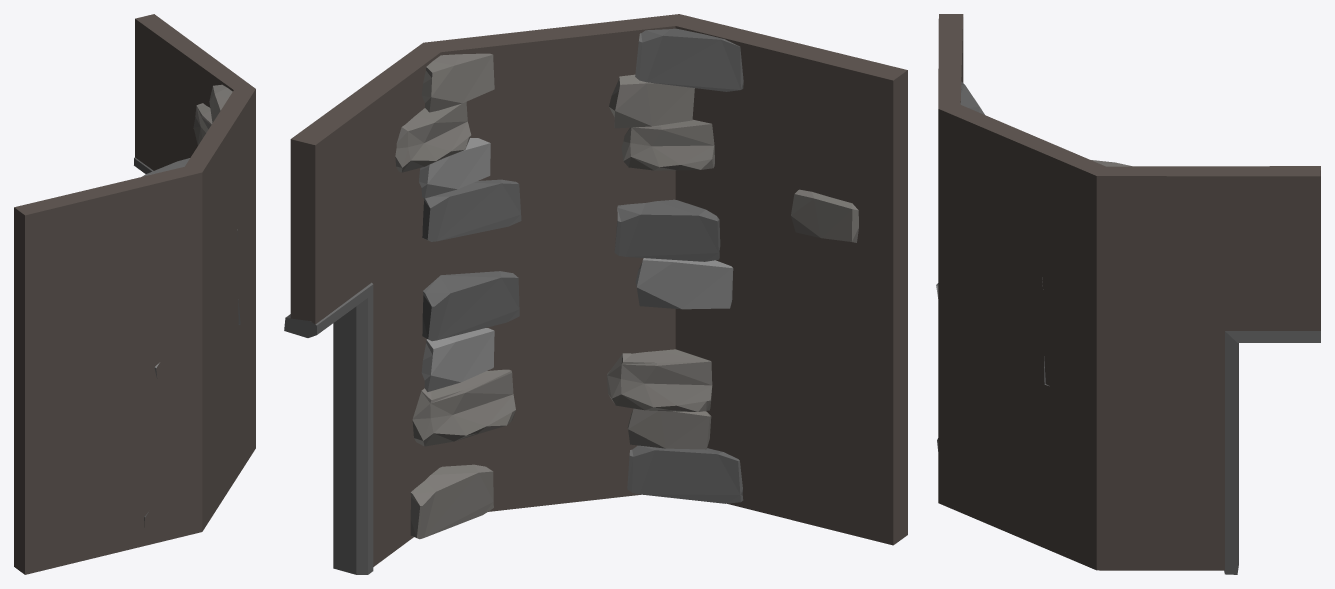
File: MCastle_OctWall_Int_12.FBX
3 renders of one model, left to right at view 1: azimuth 30°, elevation 25°; view 2: azimuth 150°, elevation 25°; view 3: azimuth 270°, elevation 25°, orthographic. The views are drawn at different scales.
Parts seen in each view (by area): view 1: MCastle_OctWall_Int_12_LOD0; view 2: MCastle_OctWall_Int_12_LOD0; view 3: MCastle_OctWall_Int_12_LOD0.
Boxes of the visible parts, x1,y1,x2,y2 form: MCastle_OctWall_Int_12_LOD0: (14,14,255,574); MCastle_OctWall_Int_12_LOD0: (284,14,907,574); MCastle_OctWall_Int_12_LOD0: (936,14,1320,574).
Size of what is drawn, in the model's own units: 158 by 176 by 155.
